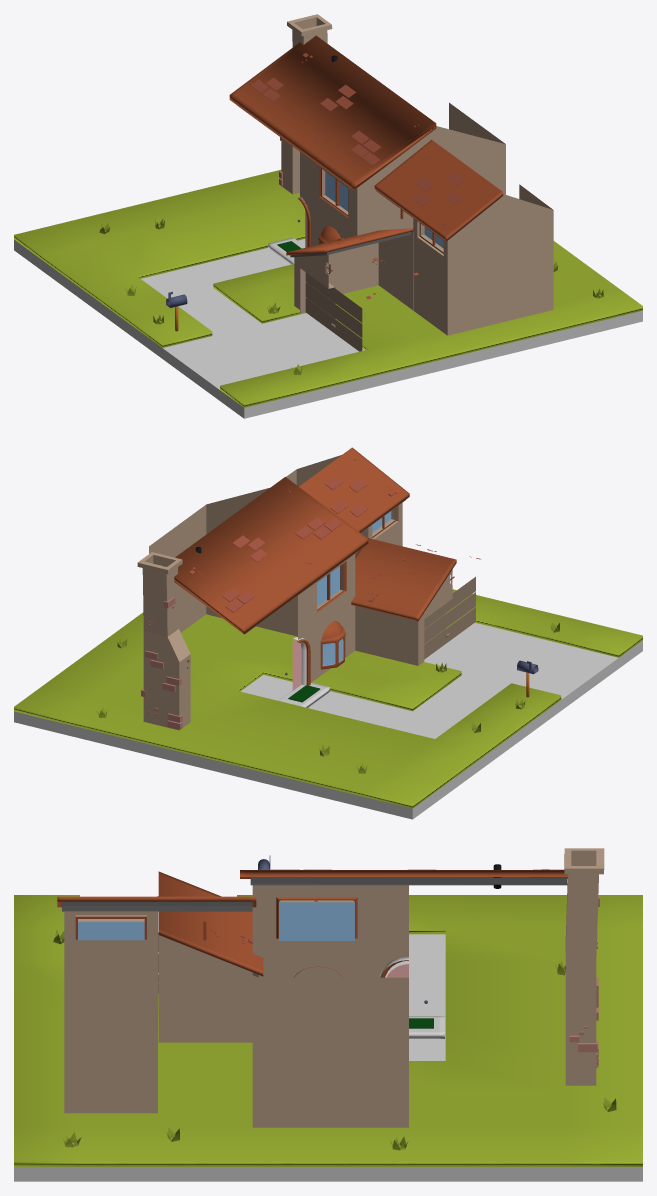
The model's file is son.glb.
The picture shows the model from 3 angles, top to bottom: view 1: azimuth 30°, elevation 25°; view 2: azimuth 150°, elevation 25°; view 3: azimuth 270°, elevation 25°; orthographic projection. The views are drawn at different scales.
Visible parts, largest first — view 1: Plane.016, Plane, Plane.002, Plane.004, Plane.001, Plane.005, Plane.003, Plane.014, Plane.007, Plane.006; view 2: Plane.016, Plane, Plane.004, Plane.001, Plane.007, Plane.006, Plane.005, Plane.003, Plane.014, Plane.002, Plane.011; view 3: Plane.016, Plane.001, Plane.002, Plane, Plane.003, Plane.007, Plane.006, Plane.008, Plane.004, Plane.009, Plane.005, Plane.017.
Boxes of the visible parts, x1,y1,x2,y2 form: Plane.016: (14,169,642,407); Plane: (14,239,642,418); Plane.002: (413,184,553,335); Plane.004: (229,35,436,190); Plane.001: (300,102,505,276); Plane.005: (374,139,503,241); Plane.003: (294,231,412,318); Plane.014: (305,272,362,351); Plane.007: (281,14,332,194); Plane.006: (286,228,413,255); Plane.016: (14,589,642,808); Plane: (14,622,642,819); Plane.004: (163,477,368,634); Plane.001: (149,488,355,682); Plane.007: (137,552,190,730); Plane.006: (351,538,456,621); Plane.005: (299,447,409,532); Plane.003: (355,569,452,665); Plane.014: (424,576,475,659); Plane.002: (286,455,402,556); Plane.011: (320,621,345,669); Plane.016: (14,895,642,1166); Plane.001: (252,885,408,1127); Plane.002: (64,911,157,1113); Plane: (14,911,642,1181); Plane.003: (158,935,252,1042); Plane.007: (564,848,604,1085); Plane.006: (158,871,263,976); Plane.008: (250,876,567,885); Plane.004: (240,870,567,878); Plane.009: (62,901,252,911); Plane.005: (57,896,256,907); Plane.017: (409,1016,444,1038).
Bounding box in the file's own units: 8 × 3.37 × 8.
